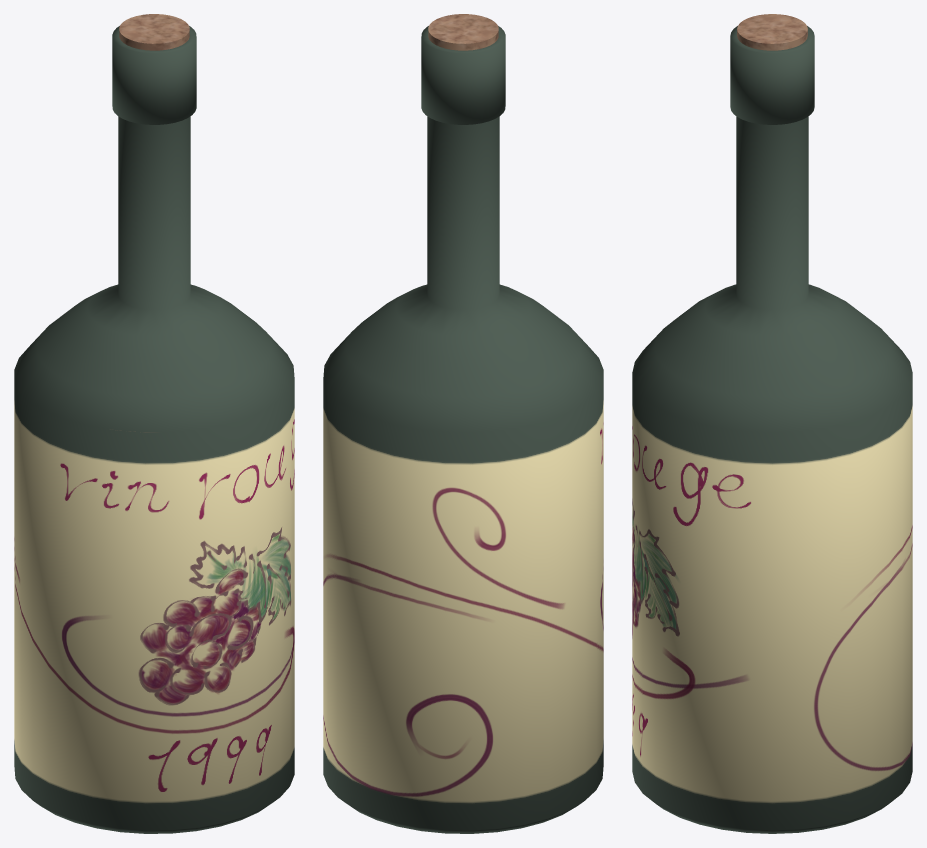
File: Bottle.obj
The picture shows the model from 3 angles, left to right: view 1: azimuth 30°, elevation 25°; view 2: azimuth 150°, elevation 25°; view 3: azimuth 270°, elevation 25°; orthographic projection.
Parts seen in each view (by area): view 1: vin_rouge; view 2: vin_rouge; view 3: vin_rouge.
Part boxes in pixels (box(x1,y1,x2,y2)): vin_rouge: box(14, 14, 294, 833); vin_rouge: box(323, 14, 603, 833); vin_rouge: box(632, 14, 912, 833).
Size of the model in its own units: 0.2792 by 0.823 by 0.2792.
Materials: 1 (1 with a texture image).
